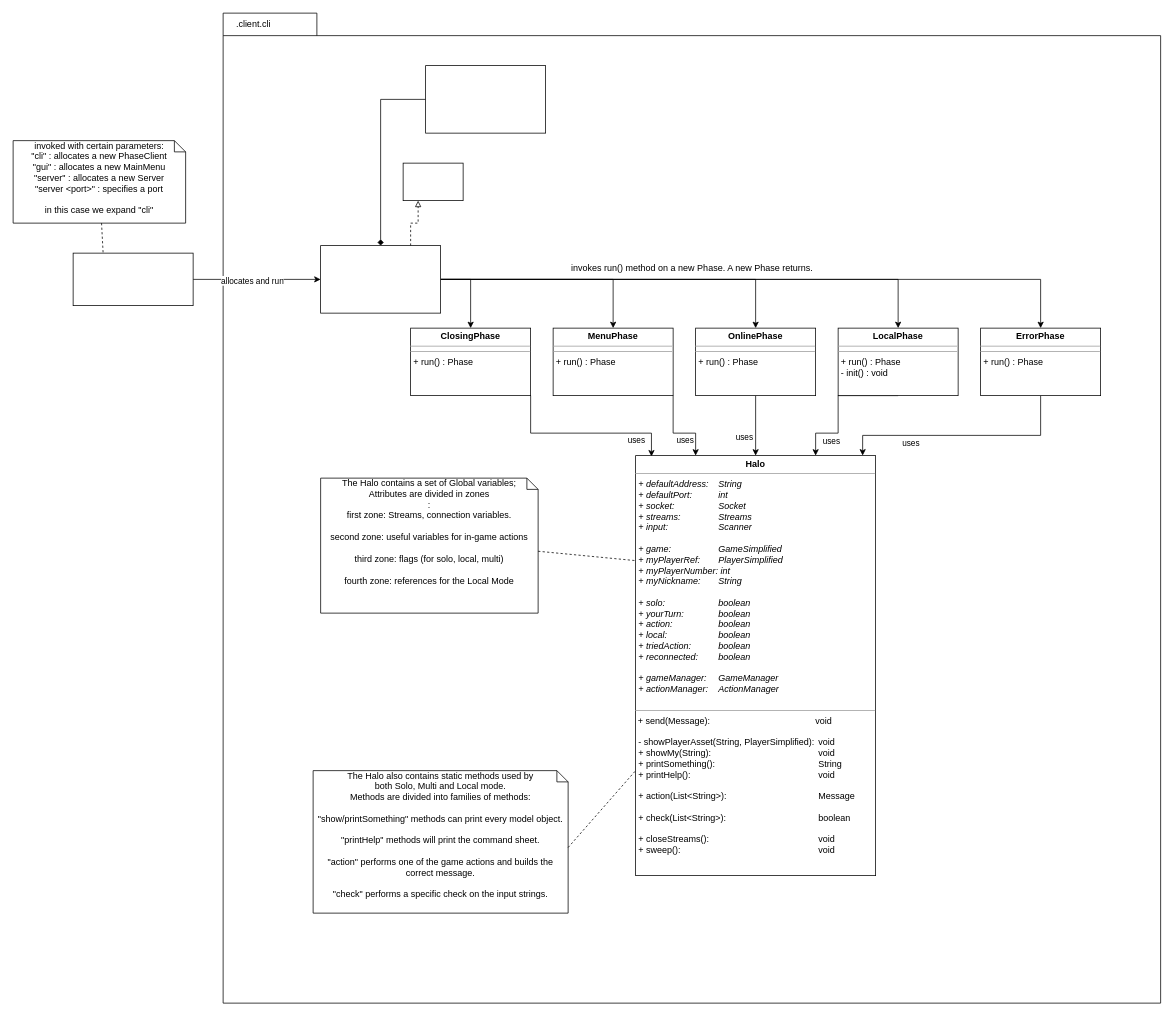
Image size: 1174x1016. Some labels were removed from this diagram. Each missing label, with the centre of its shape:
"Phase: ENUM MAIN_MENU, ERROR, QUIT, ONLINE_PHASE, LOCAL_PHASE" belongs at pixel 485 99.
"PhaseClient - phase: Phase + run() : void" belongs at pixel 380 279.
"StartingPoint + main(String[]) : void" belongs at pixel 132 279.
"«interface» Runnable" belongs at pixel 432 181.
